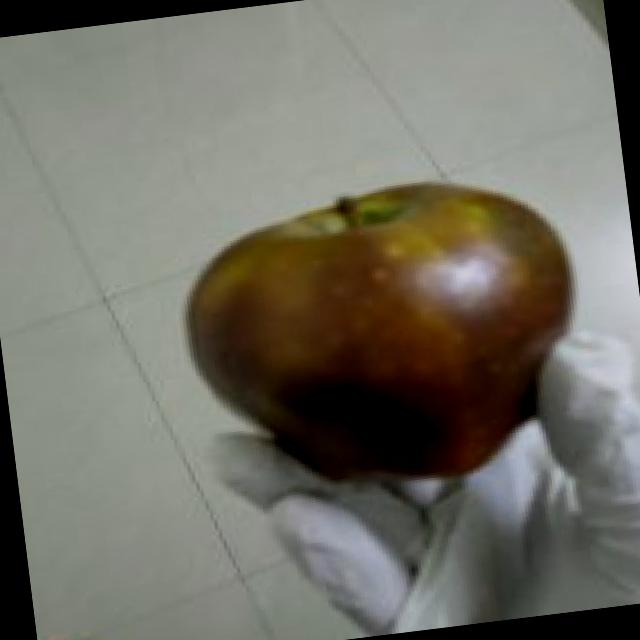Rotten_Apple: (168, 150, 594, 514)
